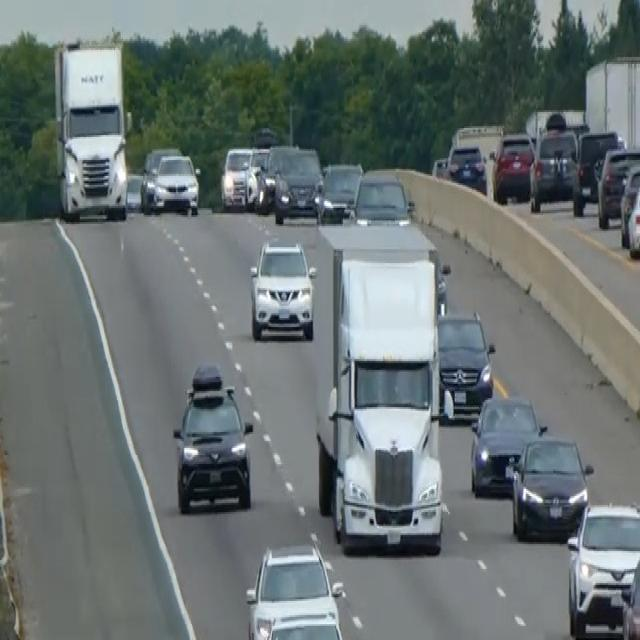car: (565, 500, 639, 638), (244, 540, 346, 638), (510, 432, 593, 540), (469, 391, 545, 496), (248, 236, 315, 342), (436, 308, 495, 422), (572, 128, 624, 213), (344, 167, 414, 226), (529, 126, 578, 210), (273, 144, 323, 224), (596, 144, 639, 228), (490, 130, 535, 202), (152, 151, 200, 215), (315, 158, 363, 222), (256, 142, 299, 212), (140, 144, 181, 212), (220, 144, 253, 210), (447, 140, 487, 194), (620, 535, 639, 638), (619, 158, 639, 249), (244, 144, 270, 210), (627, 176, 639, 258), (125, 170, 144, 212)
jeep: (171, 361, 254, 514)
lorry: (310, 218, 446, 554), (51, 38, 130, 222)
